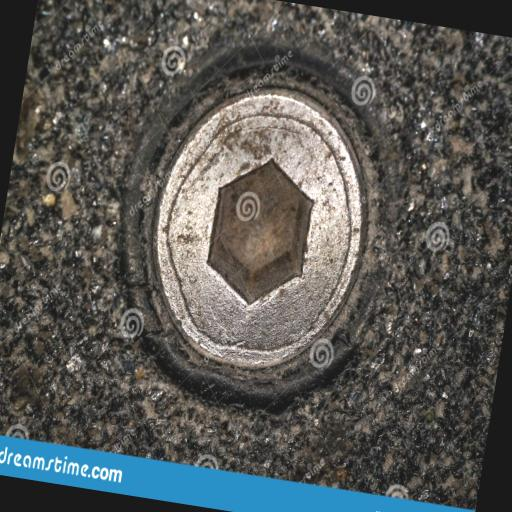Hex-Allen: (98, 26, 420, 428)
